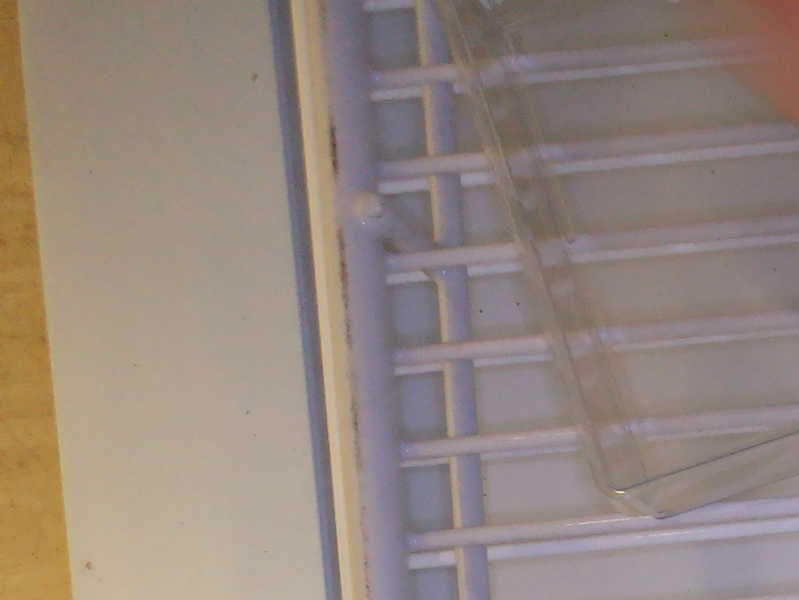plate: (489, 143, 797, 522)
